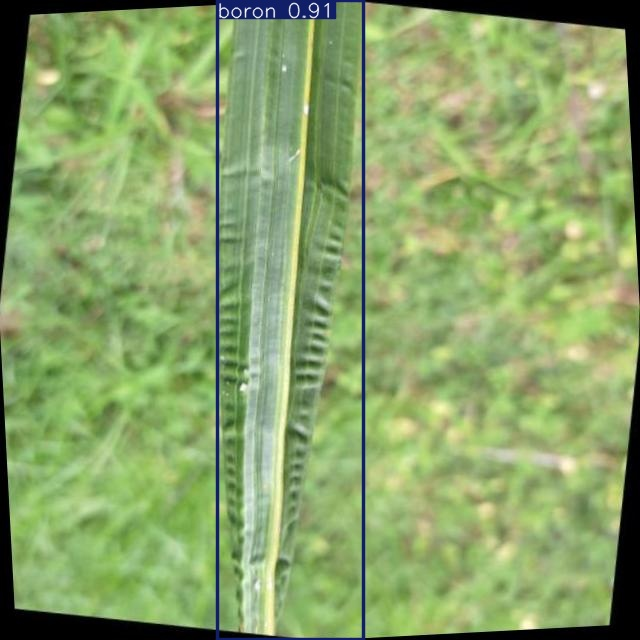nitrogen: (217, 1, 364, 639)
